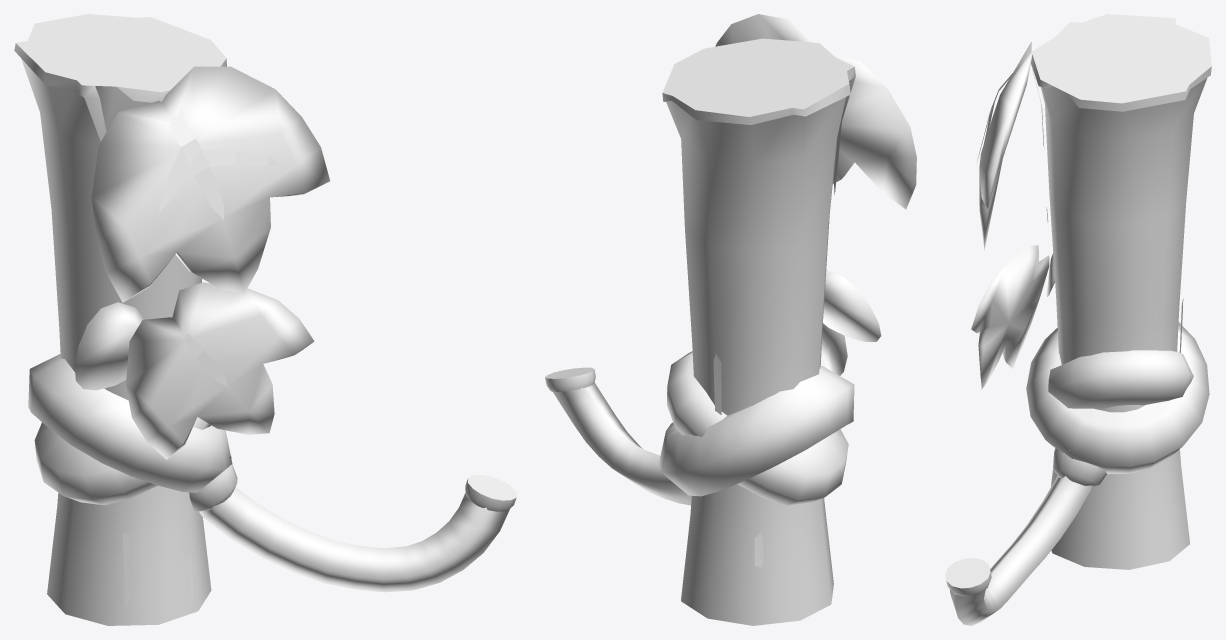
File: Mesh_Home_B_Idyll_17_03_SM.fbx
The picture shows the model from 3 angles, left to right: view 1: azimuth 30°, elevation 25°; view 2: azimuth 150°, elevation 25°; view 3: azimuth 270°, elevation 25°; orthographic projection. The views are drawn at different scales.
Visible parts, largest first — view 1: Mesh_Home_B_Idyll_17_03; view 2: Mesh_Home_B_Idyll_17_03; view 3: Mesh_Home_B_Idyll_17_03.
Boxes of the visible parts, x1,y1,x2,y2 form: Mesh_Home_B_Idyll_17_03: [14, 14, 516, 625]; Mesh_Home_B_Idyll_17_03: [545, 14, 916, 625]; Mesh_Home_B_Idyll_17_03: [945, 14, 1211, 625].
Size of the model in its own units: 19.43 by 25.86 by 12.61.
